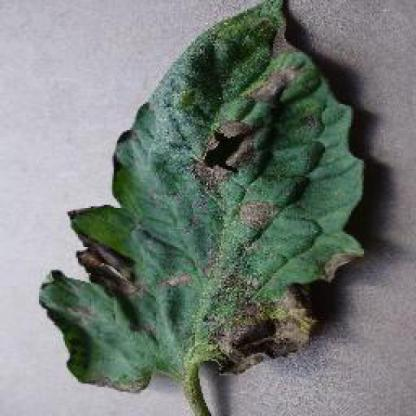Tomato_Blight: (40, 1, 364, 389)
